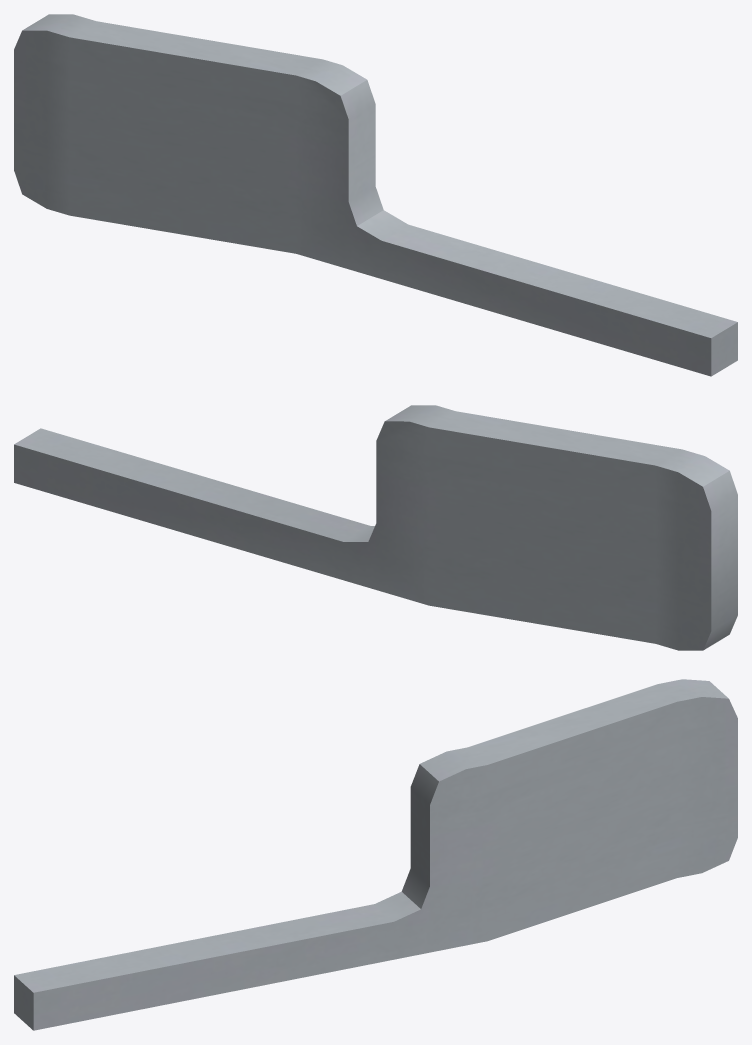
The model's file is SM_光谱仪_内部零件.FBX.
The picture shows the model from 3 angles, top to bottom: view 1: azimuth 30°, elevation 25°; view 2: azimuth 210°, elevation 25°; view 3: azimuth 270°, elevation 25°; orthographic projection.
Bounding box in the file's own units: 0.0417 × 0.0188 × 0.0701.
